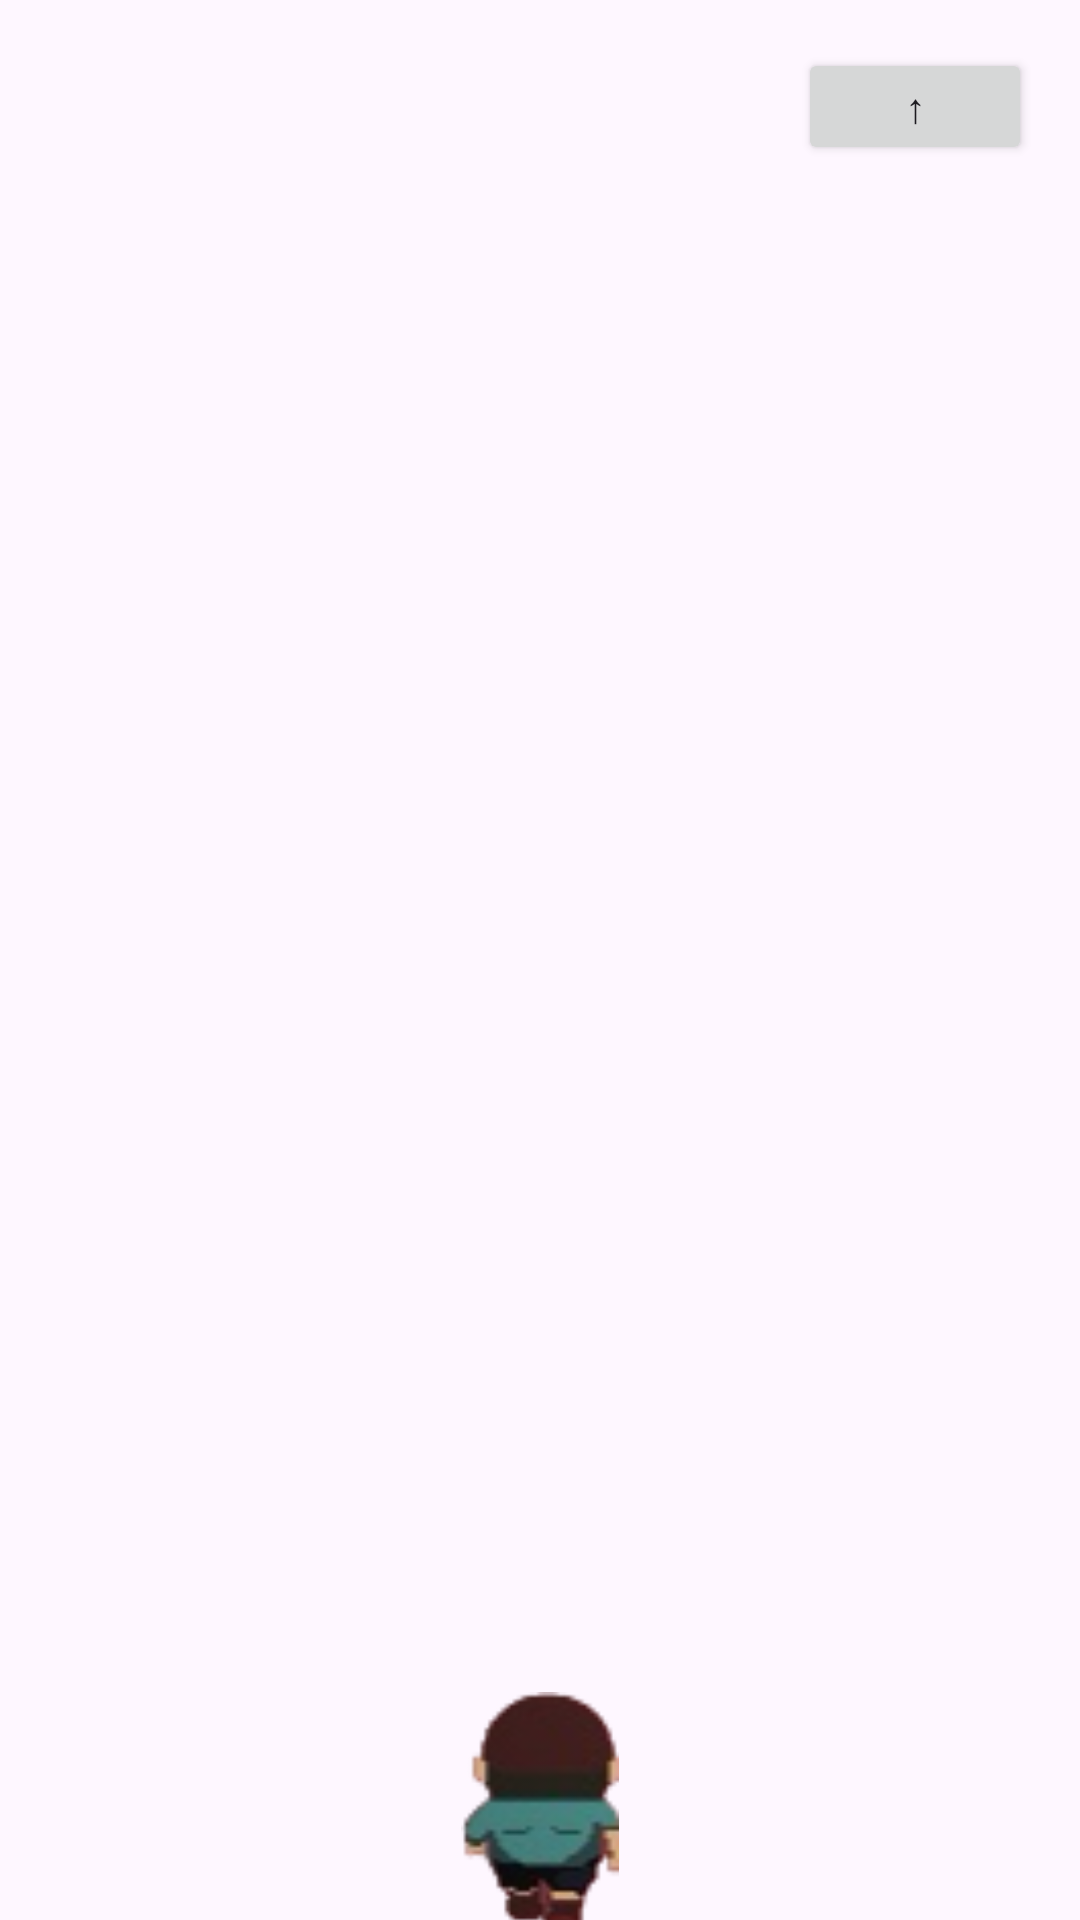

Icon click points for this 1080w x 1920h phone screenshot, format point (x, y):
person: point (541, 1806)
